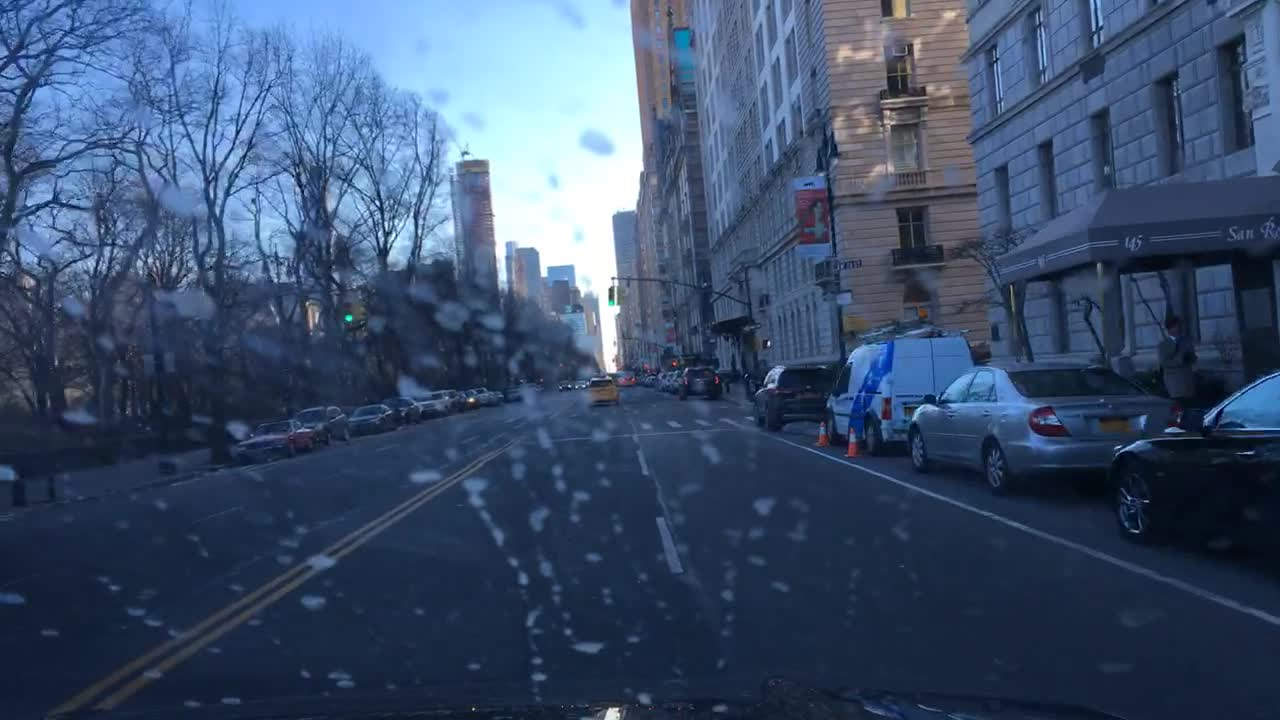car: (906, 357, 1182, 497), (1100, 369, 1278, 554), (823, 318, 974, 455), (748, 364, 835, 431), (227, 419, 316, 464), (295, 404, 350, 443), (345, 403, 394, 433), (676, 370, 720, 400), (584, 375, 619, 406), (380, 396, 420, 421), (430, 387, 467, 412), (415, 394, 449, 416), (475, 385, 497, 406), (501, 384, 524, 402), (519, 376, 538, 394), (486, 388, 506, 404), (669, 368, 682, 391), (464, 387, 479, 406), (616, 373, 637, 385), (662, 369, 673, 391), (555, 376, 569, 391), (572, 378, 588, 391), (644, 372, 656, 385), (517, 390, 534, 398), (653, 371, 658, 387)
person: (1155, 310, 1195, 399)
traffic light: (340, 302, 354, 332), (751, 334, 773, 351), (352, 301, 365, 329), (618, 284, 624, 305), (606, 284, 612, 304)
traffic sign: (740, 318, 760, 333)
